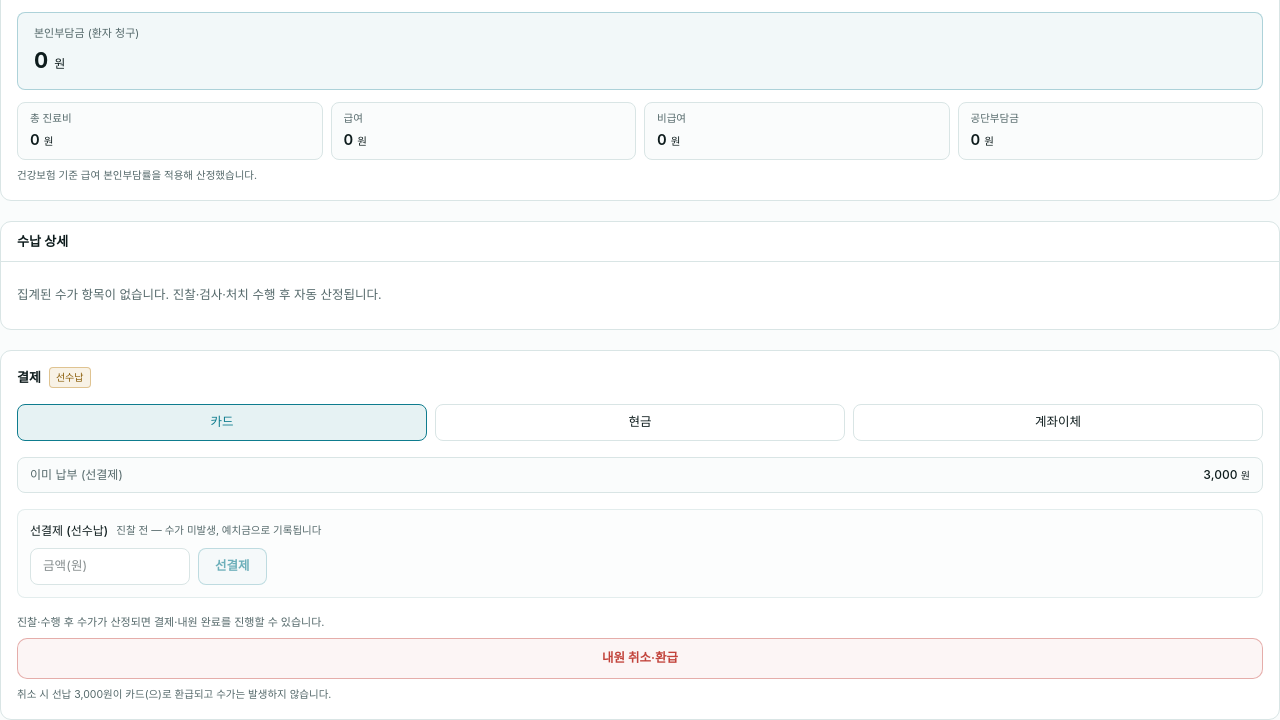
Test case: BillingDetail › registered 선납 건 → '내원 취소·환급' → 신원 confirm(환급액·원수단) → settleCancelledVisit
The image size is (1280, 720).
(page scrolled)
Click the button "내원 취소·환급" at x=640, y=658, box x1=17 y1=638 x2=1263 y2=679
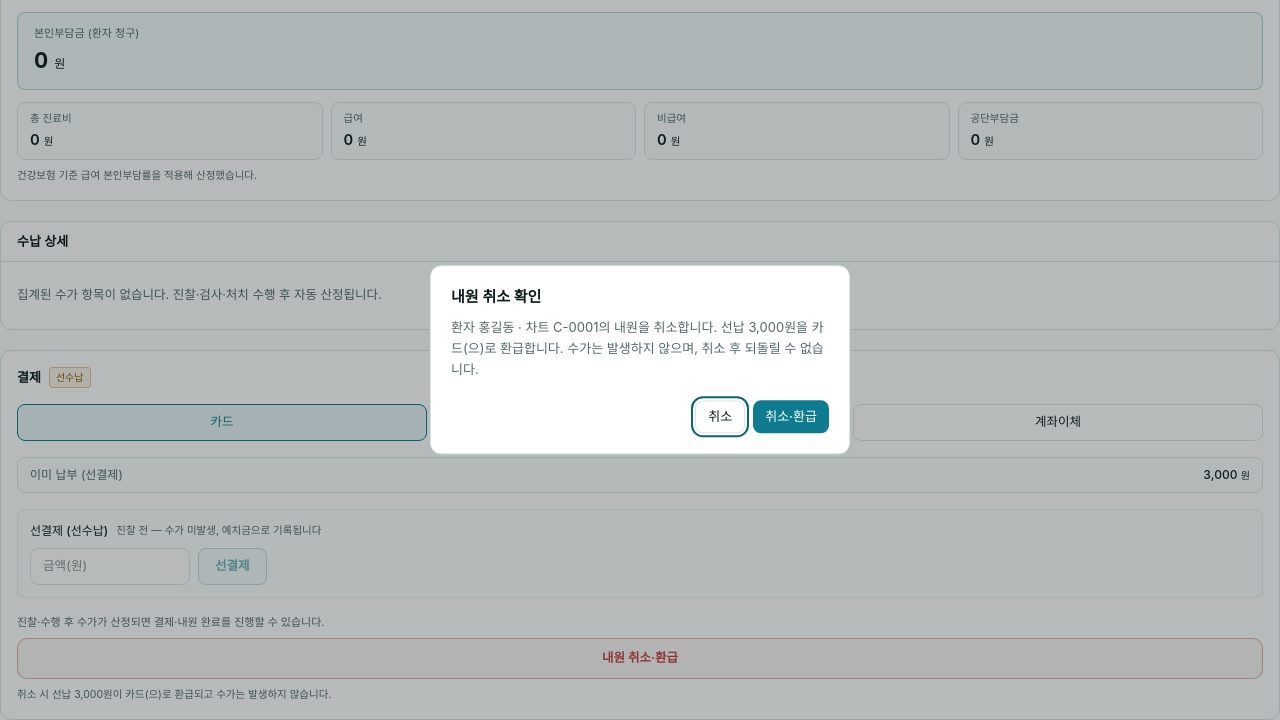
Expected: the text "카드" is shown, x1=451 y1=319 x2=824 y2=377
Click the button "취소·환급" at x=791, y=417, box x1=753 y1=400 x2=829 y2=434
(page scrolled)
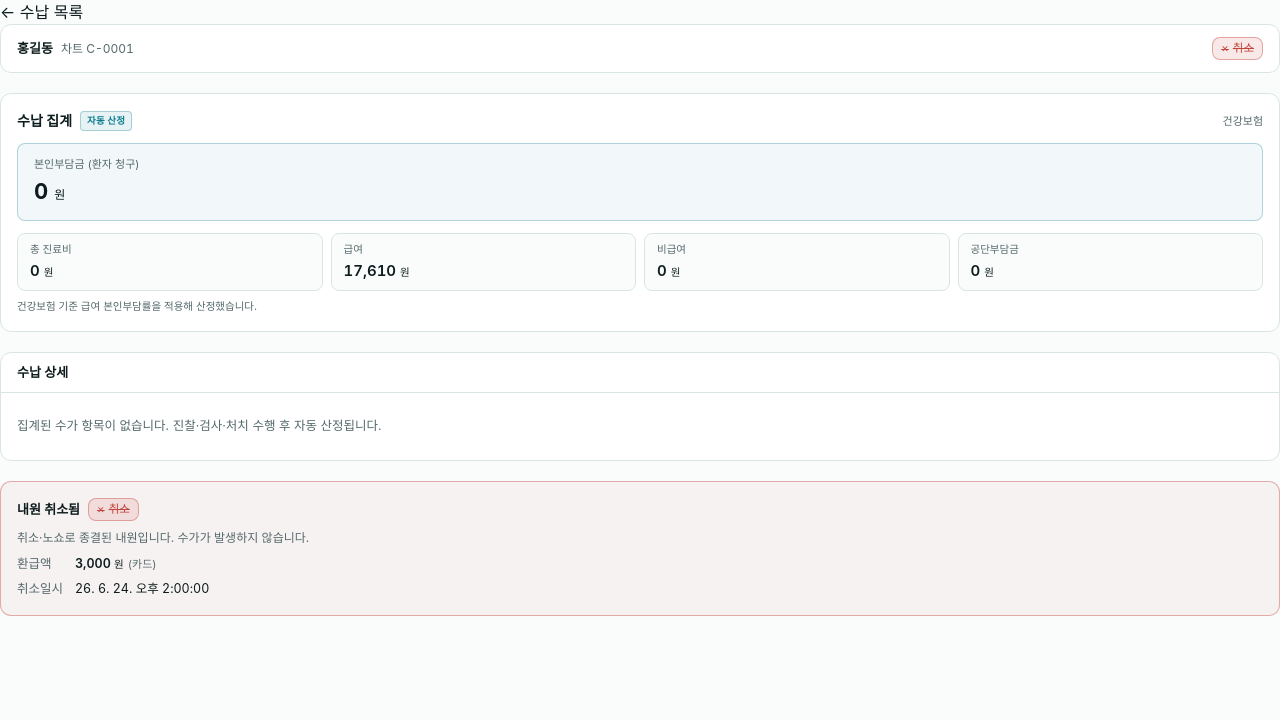
Expected: the heading "내원 취소됨" is shown, x1=17 y1=500 x2=80 y2=519
Expected: the text "3,000" is shown, x1=75 y1=556 x2=111 y2=571
